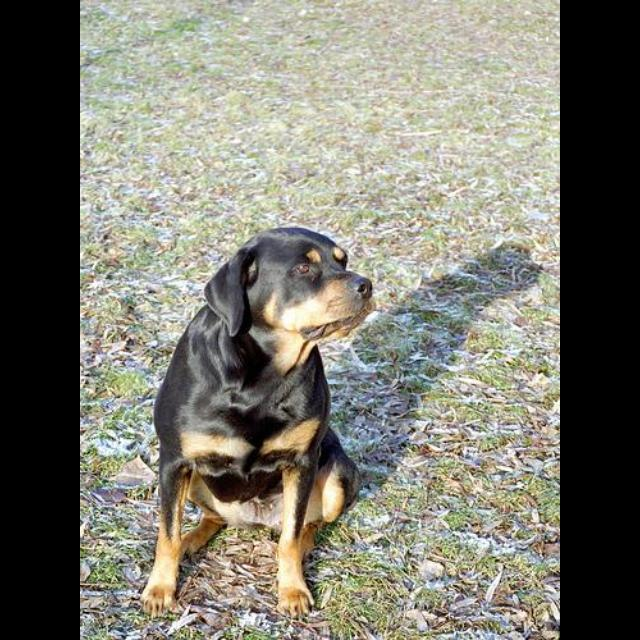rottweiler: (140, 226, 376, 620)
